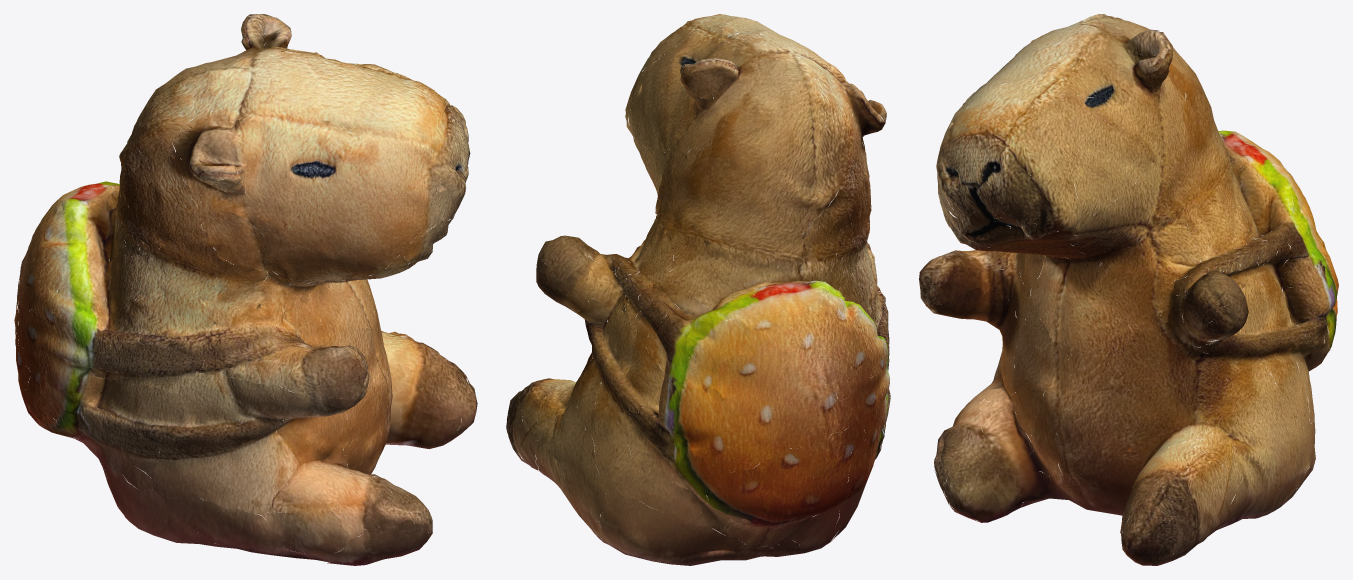
File: asset.glb
3 renders of one model, left to right at view 1: azimuth 30°, elevation 25°; view 2: azimuth 150°, elevation 25°; view 3: azimuth 270°, elevation 25°, orthographic. The views are drawn at different scales.
Parts seen in each view (by area): view 1: Mesh_0; view 2: Mesh_0; view 3: Mesh_0.
Boxes of the visible parts, x1,y1,x2,y2 form: Mesh_0: [14, 14, 477, 565]; Mesh_0: [506, 14, 890, 565]; Mesh_0: [919, 14, 1338, 565].
Bounding box in the file's own units: 4.32 × 4.9 × 3.99.
1 material, 1 textured.
